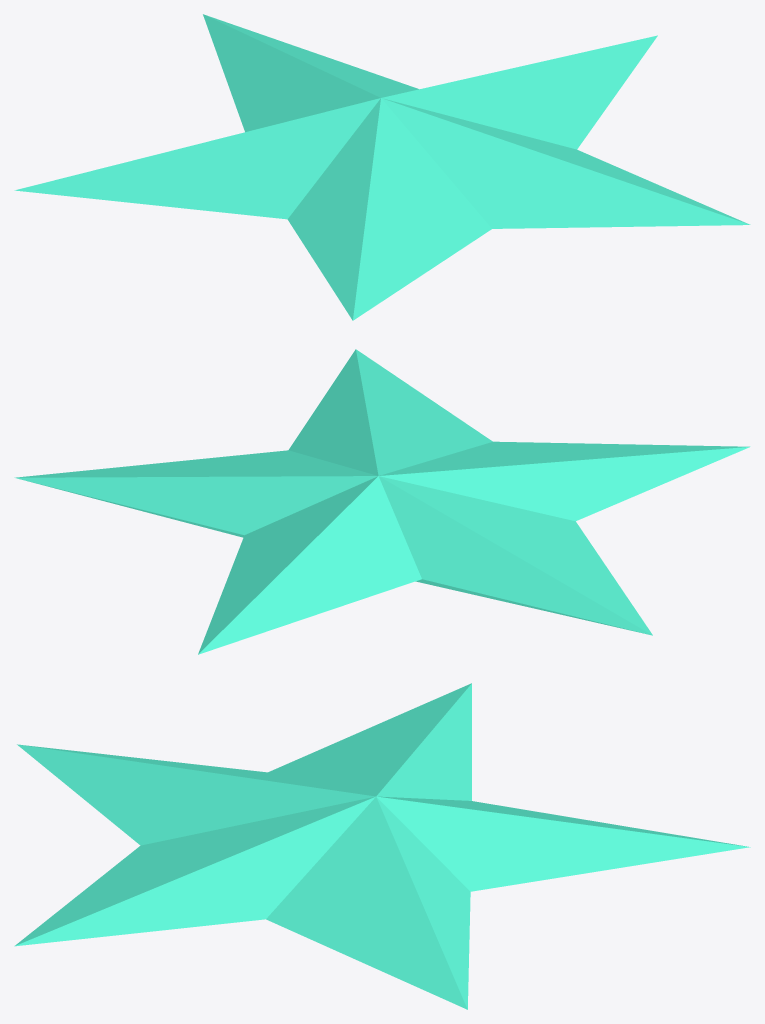
Rendered from star.obj.
The picture shows the model from 3 angles, top to bottom: view 1: azimuth 30°, elevation 25°; view 2: azimuth 150°, elevation 25°; view 3: azimuth 270°, elevation 25°; orthographic projection. The views are drawn at different scales.
Visible parts, largest first — view 1: estrellica; view 2: estrellica; view 3: estrellica.
Boxes of the visible parts, bbox=[...] form: estrellica: bbox=[14, 14, 750, 320]; estrellica: bbox=[14, 349, 750, 654]; estrellica: bbox=[14, 683, 750, 1009].
Bounding box in the file's own units: 2.2 × 0.3177 × 2.1.
